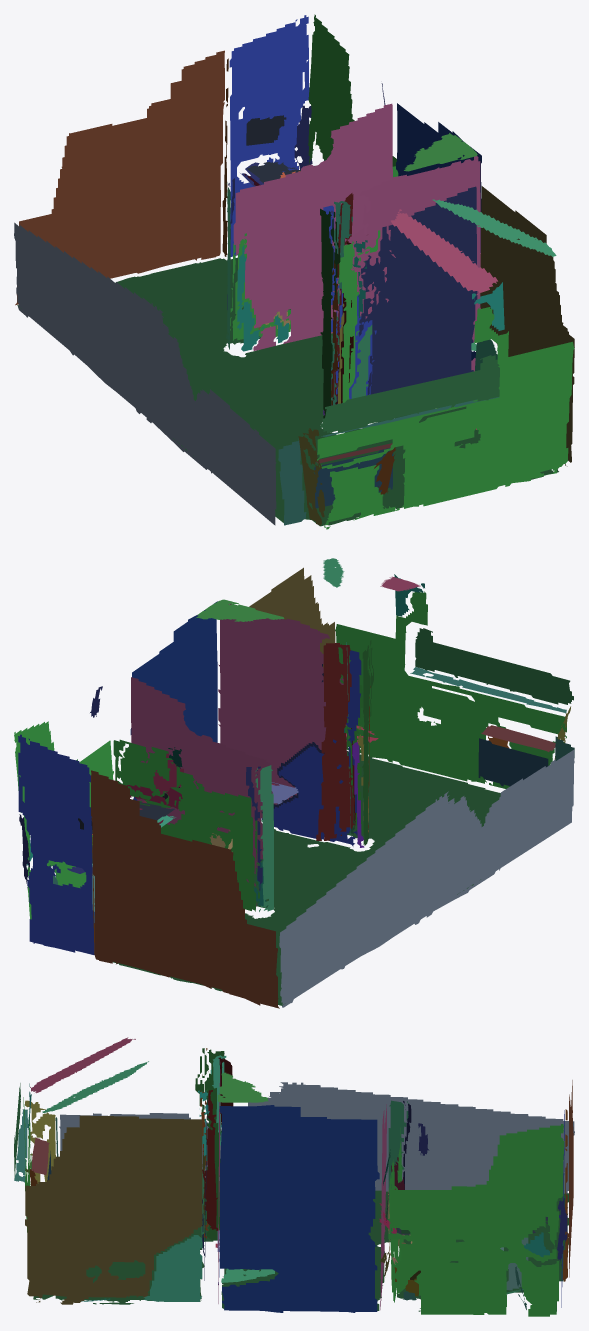
File: ObjectSDF++-scene0084_00.glb
3 renders of one model, top to bottom at view 1: azimuth 30°, elevation 25°; view 2: azimuth 150°, elevation 25°; view 3: azimuth 270°, elevation 25°, orthographic. The views are drawn at different scales.
Parts seen in each view (by area): view 1: scene0084_00_ObjectSDF++; view 2: scene0084_00_ObjectSDF++; view 3: scene0084_00_ObjectSDF++.
Boxes of the visible parts, x1,y1,x2,y2 form: scene0084_00_ObjectSDF++: (14,14,574,529); scene0084_00_ObjectSDF++: (14,558,574,1008); scene0084_00_ObjectSDF++: (14,1037,574,1316).
Bounding box in the file's own units: 3.02 × 2.23 × 5.13.
